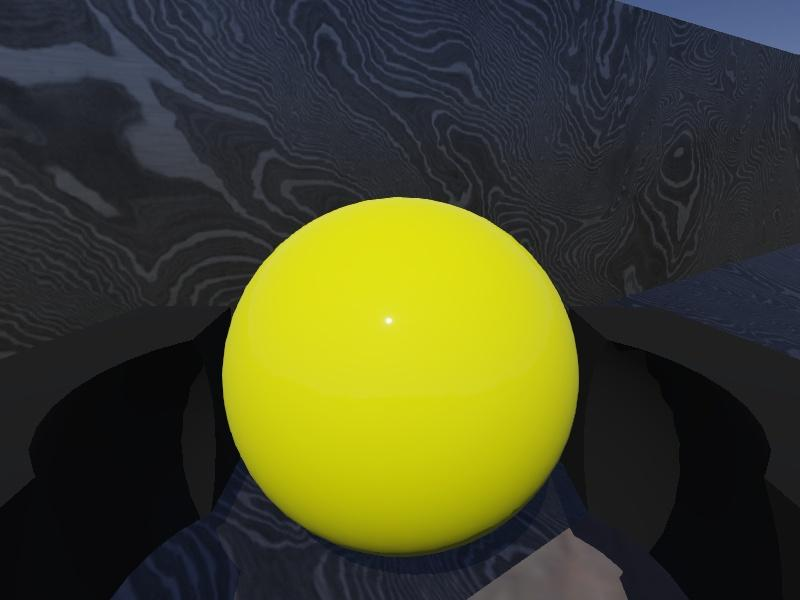yellow ball: (222, 195, 581, 557)
